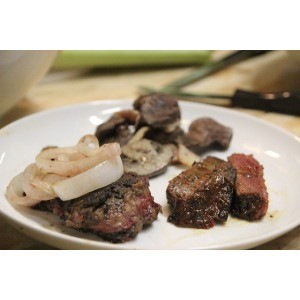liver_brain food: (177, 161, 255, 218), (82, 173, 154, 232), (132, 86, 193, 141)
